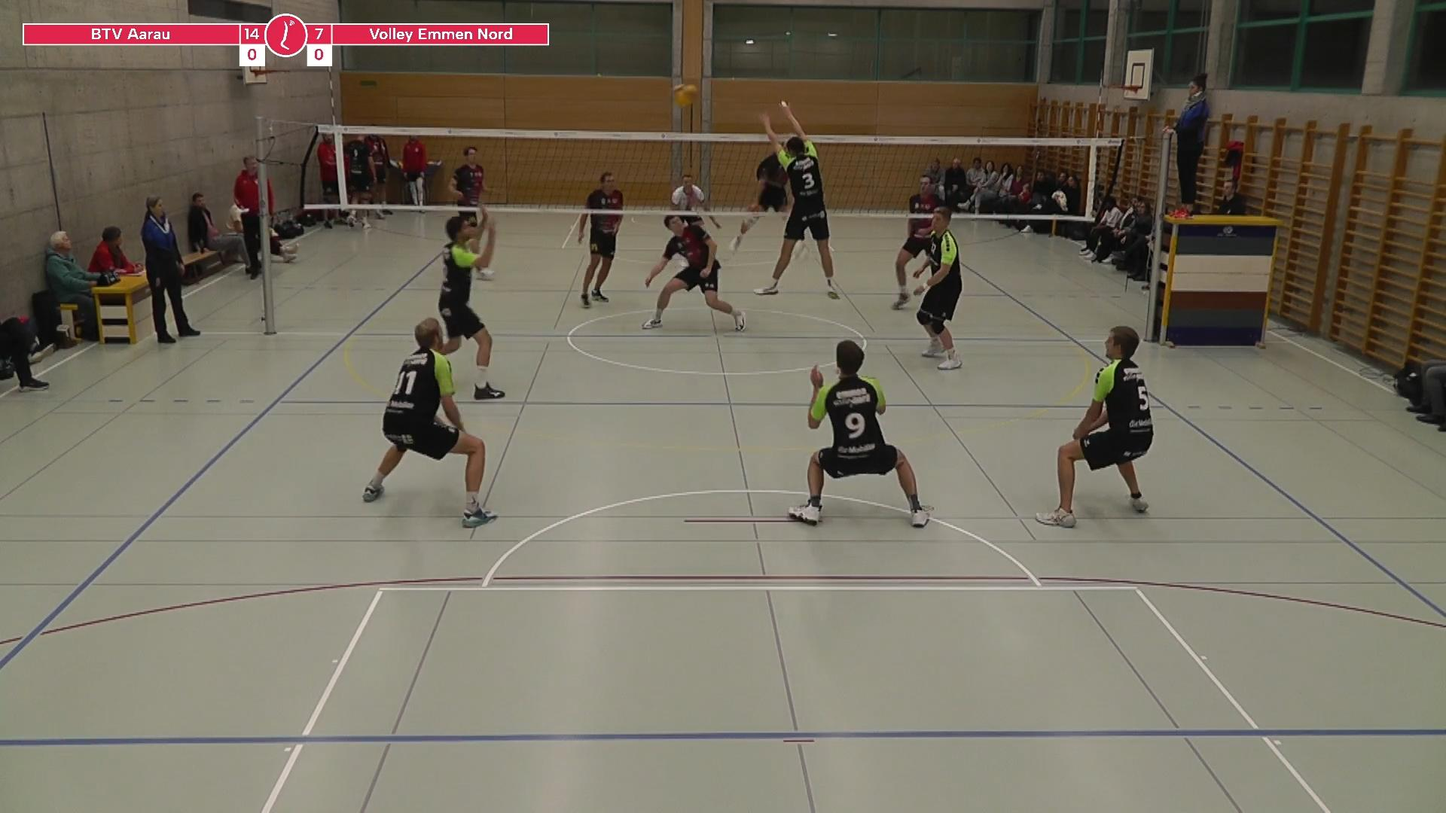attacco: (726, 115, 809, 255)
muro: (740, 96, 841, 304)
